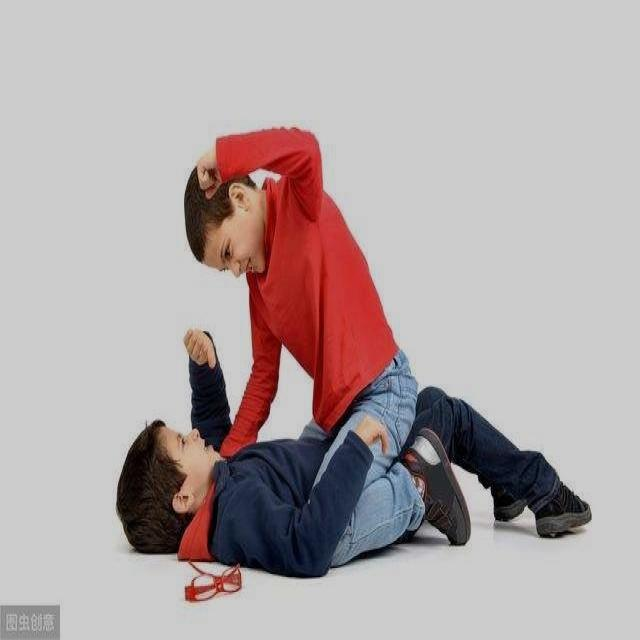fight: (117, 125, 594, 586)
